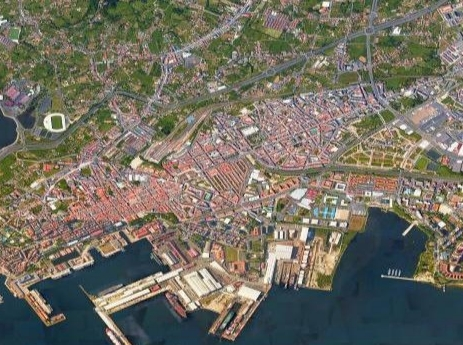harbor: (1, 187, 338, 345), (377, 220, 463, 291)
motorway: (1, 87, 110, 166), (324, 156, 463, 184), (111, 81, 223, 112), (362, 1, 447, 40), (223, 53, 298, 97), (299, 22, 374, 66), (361, 66, 404, 122)
